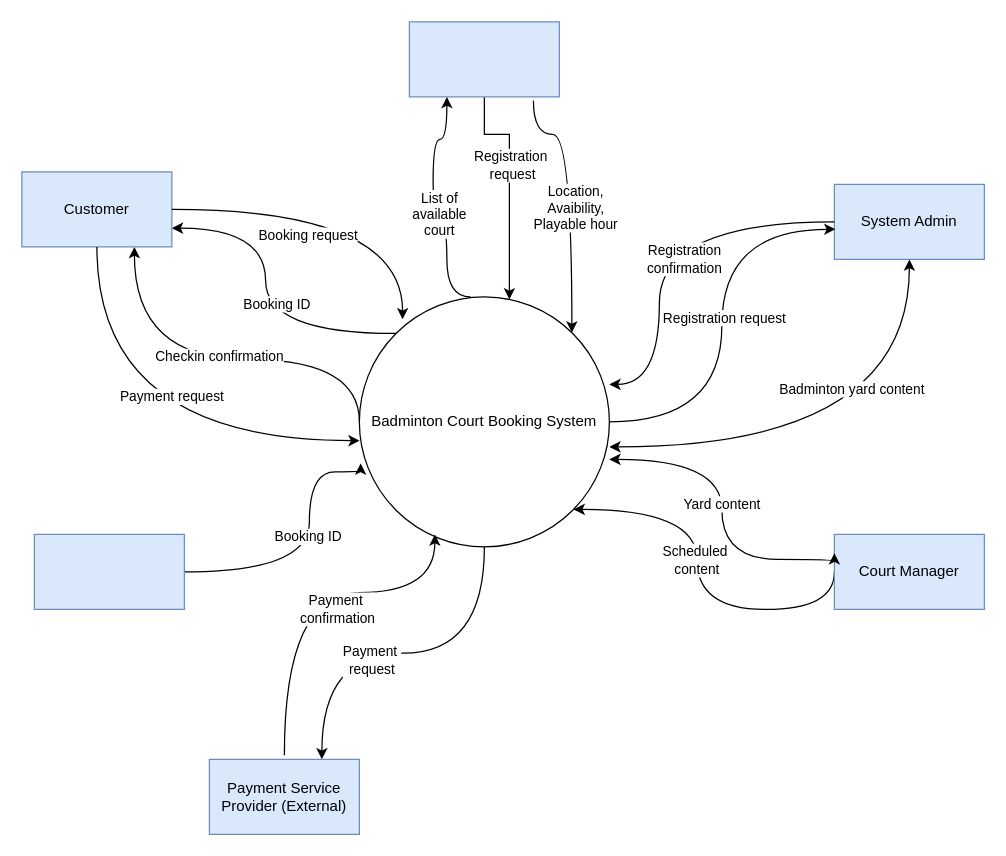
The diagram is 1006 pixels wide and 856 high, and some of its shapes have lost their labels. Here are the shapes that lost their labels. From the top down, the box of each, then its label:
(408, 21, 559, 97): Guest
(33, 533, 184, 609): Court Staff
